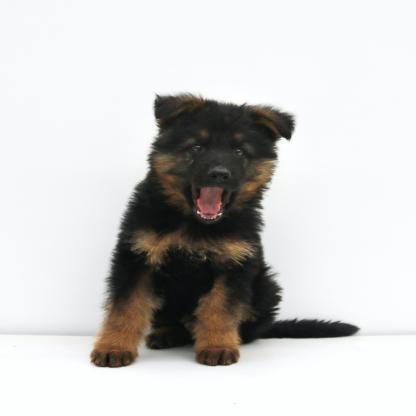dog: (86, 81, 361, 370)
